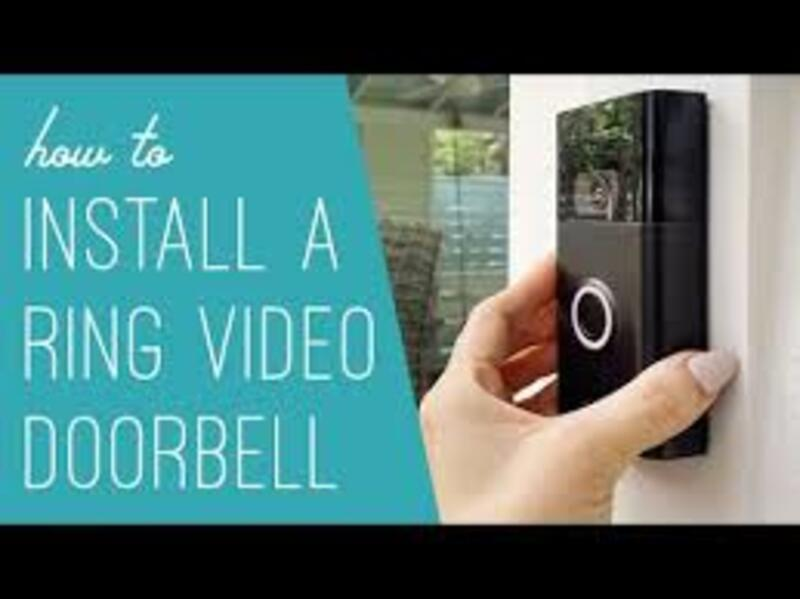doorbell: (566, 99, 709, 463)
